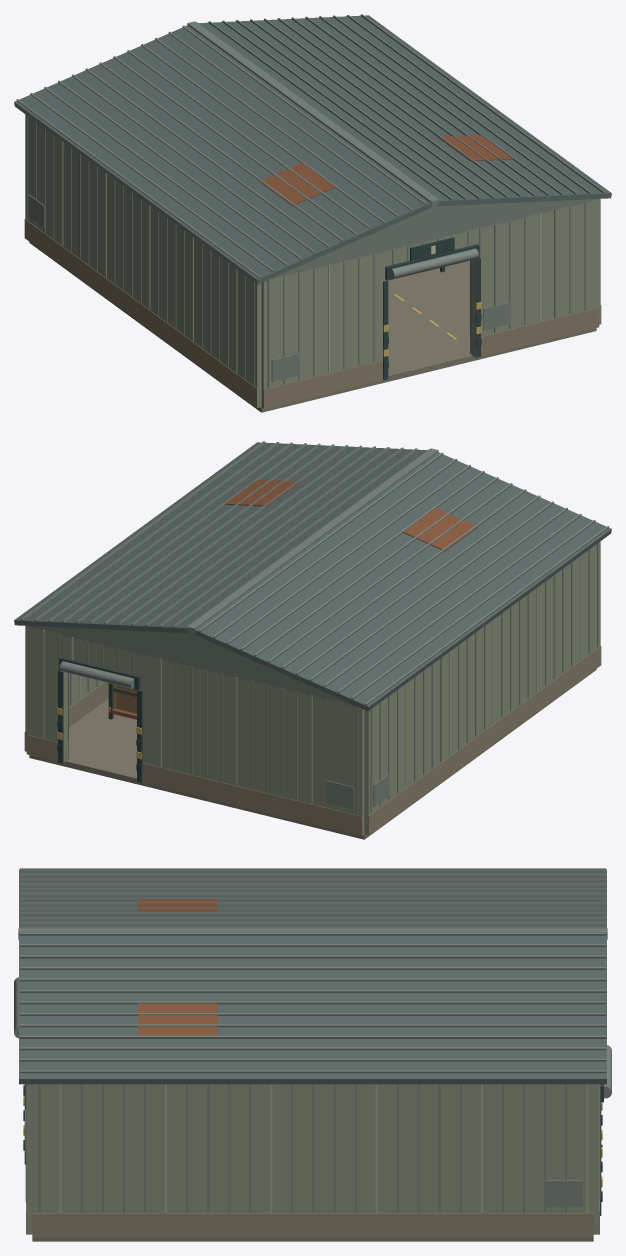
File: FSA_ENV_Shared_Warehouse_01_Compact.glb
3 views of the same model, one above another, from view 1: azimuth 30°, elevation 25°; view 2: azimuth 150°, elevation 25°; view 3: azimuth 270°, elevation 25° (orthographic). The views are drawn at different scales.
Parts seen in each view (by area): view 1: Roof_L, Roof_R, West, FrontRight, FrontLeft, Floor, West_Plinth, FrontRight_Plinth, FrontLeft_Plinth, Roof_Ridge, RoofPatch_121, RoofPatch_135 (+31 smaller); view 2: Roof_L, Roof_R, West, BackLeft, Floor, West_Plinth, BackLeft_Plinth, BackRight, Roof_Ridge, BackLintel, RoofPatch_121, RoofPatch_135 (+31 smaller); view 3: Roof_R, East, Roof_L, East_Plinth, Roof_Ridge, Floor, RoofPatch_135, RoofRib_124, RoofRib_126, RoofRib_131, RoofRib_132, RoofRib_133 (+25 smaller).
Part boxes in pixels (x1=…): Roof_L: x1=14, y1=25, x2=433, y2=284; Roof_R: x1=198, y1=15, x2=611, y2=206; West: x1=25, y1=114, x2=261, y2=407; FrontRight: x1=470, y1=199, x2=598, y2=356; FrontLeft: x1=261, y1=251, x2=387, y2=408; Floor: x1=29, y1=242, x2=596, y2=412; West_Plinth: x1=24, y1=219, x2=261, y2=407; FrontRight_Plinth: x1=470, y1=308, x2=599, y2=357; FrontLeft_Plinth: x1=261, y1=360, x2=382, y2=408; Roof_Ridge: x1=187, y1=21, x2=438, y2=207; RoofPatch_121: x1=259, y1=163, x2=334, y2=206; RoofPatch_135: x1=438, y1=134, x2=512, y2=161; Roof_L: x1=192, y1=452, x2=611, y2=711; Roof_R: x1=14, y1=442, x2=427, y2=633; West: x1=364, y1=541, x2=600, y2=834; BackLeft: x1=137, y1=654, x2=364, y2=835; Floor: x1=29, y1=669, x2=596, y2=839; West_Plinth: x1=364, y1=646, x2=601, y2=834; BackLeft_Plinth: x1=142, y1=763, x2=362, y2=835; BackRight: x1=27, y1=626, x2=68, y2=762; Roof_Ridge: x1=187, y1=448, x2=438, y2=634; BackLintel: x1=63, y1=636, x2=137, y2=675; RoofPatch_121: x1=403, y1=508, x2=477, y2=551; RoofPatch_135: x1=225, y1=479, x2=299, y2=506; Roof_R: x1=19, y1=935, x2=606, y2=1084; East: x1=32, y1=1084, x2=593, y2=1213; Roof_L: x1=19, y1=869, x2=606, y2=928; East_Plinth: x1=32, y1=1213, x2=593, y2=1237; Roof_Ridge: x1=18, y1=928, x2=607, y2=939; Floor: x1=32, y1=1237, x2=593, y2=1241; RoofPatch_135: x1=138, y1=1003, x2=217, y2=1035; RoofRib_124: x1=19, y1=955, x2=606, y2=958; RoofRib_126: x1=19, y1=978, x2=606, y2=981; RoofRib_131: x1=19, y1=1035, x2=606, y2=1038; RoofRib_132: x1=19, y1=1047, x2=606, y2=1050; RoofRib_133: x1=19, y1=1058, x2=606, y2=1061.
Bounding box in the file's own units: 10.59 × 5 × 12.78.
